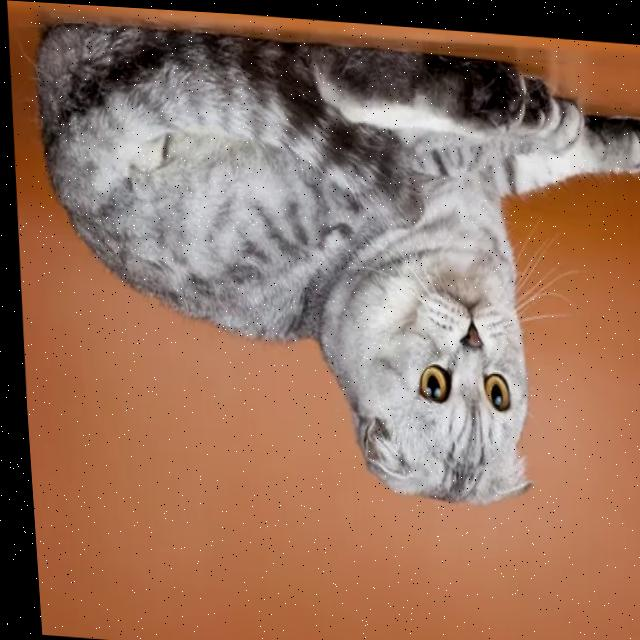Scottish Fold: (19, 12, 640, 518)
